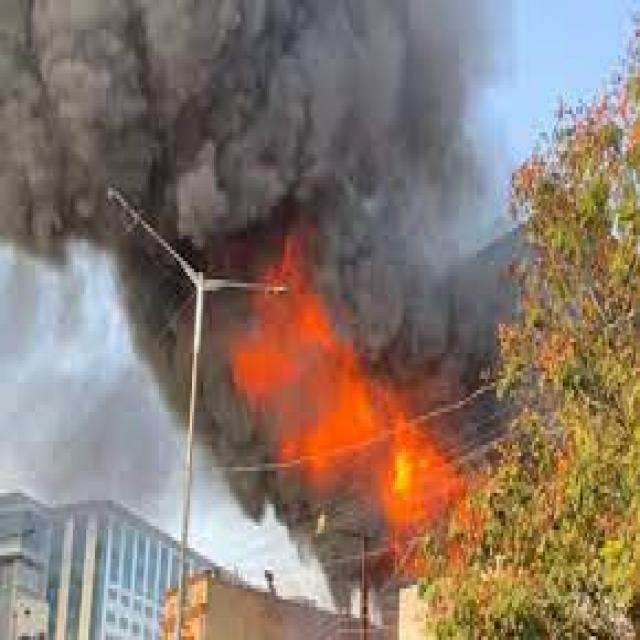smoke: (2, 3, 499, 254), (200, 254, 508, 566), (112, 254, 196, 441)
